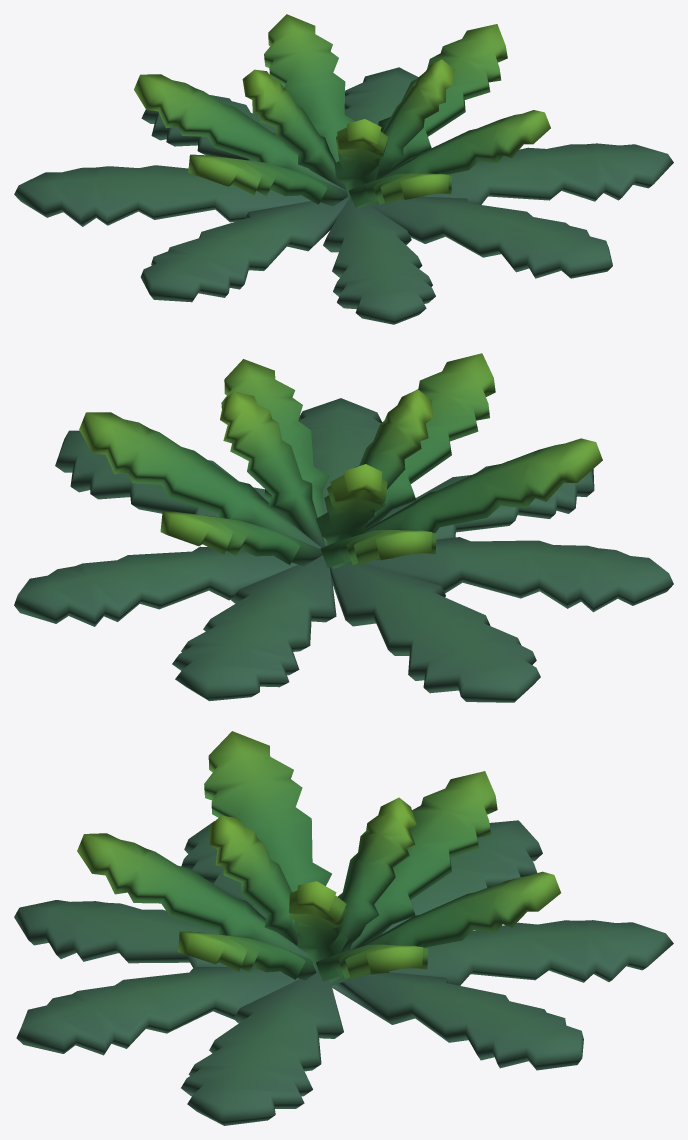
Rendered from Plants_017.fbx.
The picture shows the model from 3 angles, top to bottom: view 1: azimuth 30°, elevation 25°; view 2: azimuth 150°, elevation 25°; view 3: azimuth 270°, elevation 25°; orthographic projection. The views are drawn at different scales.
Visible parts, largest first — view 1: Plants.017; view 2: Plants.017; view 3: Plants.017.
Part boxes in pixels (left/top/right/bottom): Plants.017: left=14, top=14, right=673, bottom=324; Plants.017: left=14, top=353, right=673, bottom=702; Plants.017: left=14, top=731, right=673, bottom=1125.
Bounding box in the file's own units: 928 × 223 × 885.
